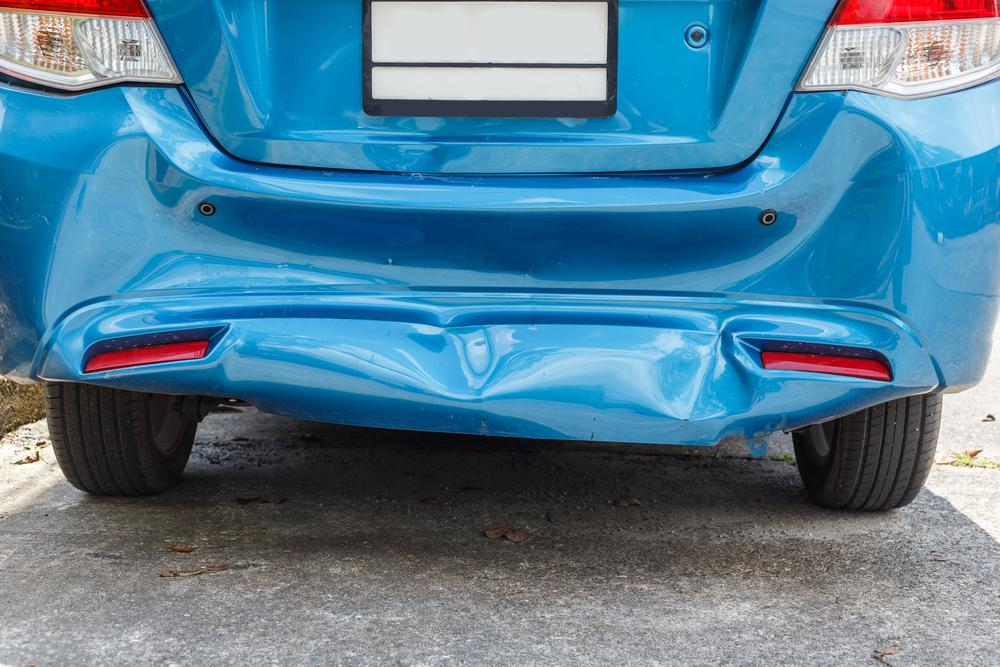dent: (45, 109, 911, 370), (650, 322, 756, 420), (402, 328, 554, 395)
